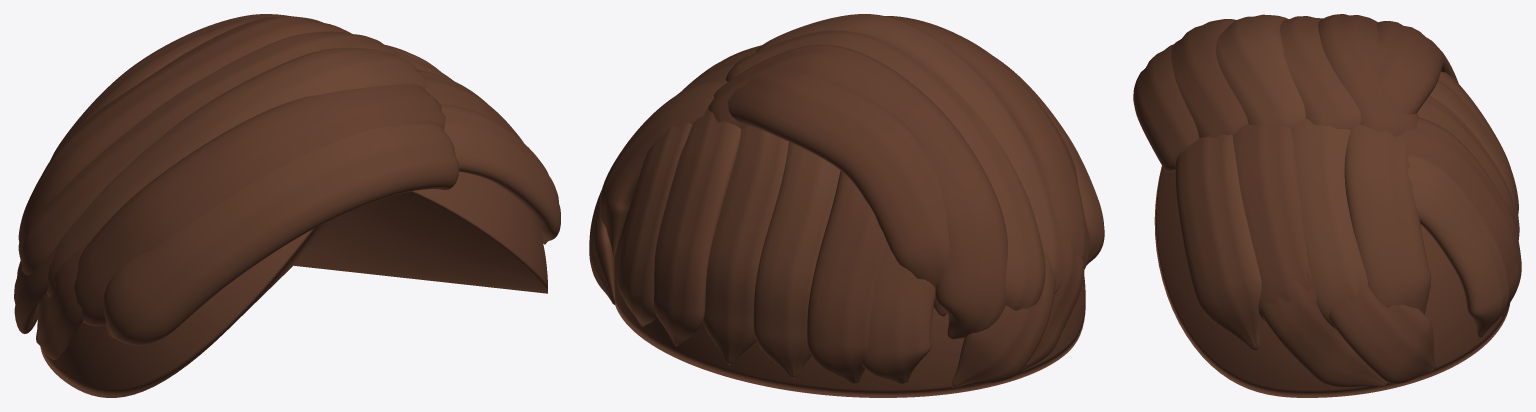
The model's file is hair-part-grooved.glb.
The picture shows the model from 3 angles, left to right: view 1: azimuth 30°, elevation 25°; view 2: azimuth 150°, elevation 25°; view 3: azimuth 270°, elevation 25°; orthographic projection. The views are drawn at different scales.
Parts seen in each view (by area): view 1: Recessed roots, Hair / Side part main 0, Hair / Side part main 1, Hair / Side part main 2, Hair / Side part main 3, Hair / Side part main 4, Hair / Side part short 0, Hair / Side part crown, Hair / Side part low -1 0, Hair / Side part low -1 1, Hair / Side part short 1; view 2: Hair / Side part crown, Hair / Side part main 4, Recessed roots, Hair / Side part nape 2, Hair / Side part nape 4, Hair / Side part nape 3, Hair / Side part main 3, Hair / Side part nape 1, Hair / Side part main 2, Hair / Side part main 1, Hair / Side part nape 0, Hair / Side part nape 5 (+6 smaller); view 3: Recessed roots, Hair / Side part short 0, Hair / Side part short 3, Hair / Side part short 1, Hair / Side part short 2, Hair / Side part nape 5, Hair / Side part main 2, Hair / Side part low 1 1, Hair / Side part low 1 0, Hair / Side part main 4, Hair / Side part nape 4, Hair / Side part main 1 (+6 smaller).
Boxes of the visible parts, box(x1,y1,x2,y2) form: Recessed roots: box(40, 171, 547, 397); Hair / Side part main 0: box(103, 124, 459, 345); Hair / Side part main 1: box(74, 84, 445, 326); Hair / Side part main 2: box(46, 47, 426, 297); Hair / Side part main 3: box(20, 31, 399, 275); Hair / Side part main 4: box(18, 16, 351, 257); Hair / Side part short 0: box(440, 104, 560, 244); Hair / Side part crown: box(51, 14, 290, 158); Hair / Side part low -1 0: box(36, 243, 88, 359); Hair / Side part low -1 1: box(14, 249, 56, 333); Hair / Side part short 1: box(418, 69, 523, 142); Hair / Side part crown: box(727, 71, 949, 317); Hair / Side part main 4: box(708, 44, 1007, 339); Recessed roots: box(614, 196, 1085, 397); Hair / Side part nape 2: box(753, 142, 840, 378); Hair / Side part nape 4: box(654, 108, 741, 345); Hair / Side part nape 3: box(703, 125, 788, 365); Hair / Side part main 3: box(725, 30, 1045, 310); Hair / Side part nape 1: box(807, 171, 886, 384); Hair / Side part main 2: box(756, 14, 1063, 294); Hair / Side part main 1: box(885, 16, 1089, 269); Hair / Side part nape 0: box(862, 242, 935, 383); Hair / Side part nape 5: box(616, 123, 692, 326); Recessed roots: box(1154, 166, 1509, 397); Hair / Side part short 0: box(1175, 134, 1262, 350); Hair / Side part short 3: box(1344, 124, 1431, 314); Hair / Side part short 1: box(1232, 124, 1308, 322); Hair / Side part short 2: box(1291, 118, 1367, 329); Hair / Side part nape 5: box(1408, 154, 1509, 338); Hair / Side part main 2: box(1216, 14, 1305, 128); Hair / Side part low 1 1: box(1329, 277, 1436, 383); Hair / Side part low 1 0: box(1261, 264, 1387, 387); Hair / Side part main 4: box(1318, 14, 1418, 136); Hair / Side part nape 4: box(1395, 117, 1521, 316); Hair / Side part main 1: box(1171, 19, 1248, 137).
Size of the model in its own units: 0.9984 by 0.5719 by 0.7615.
